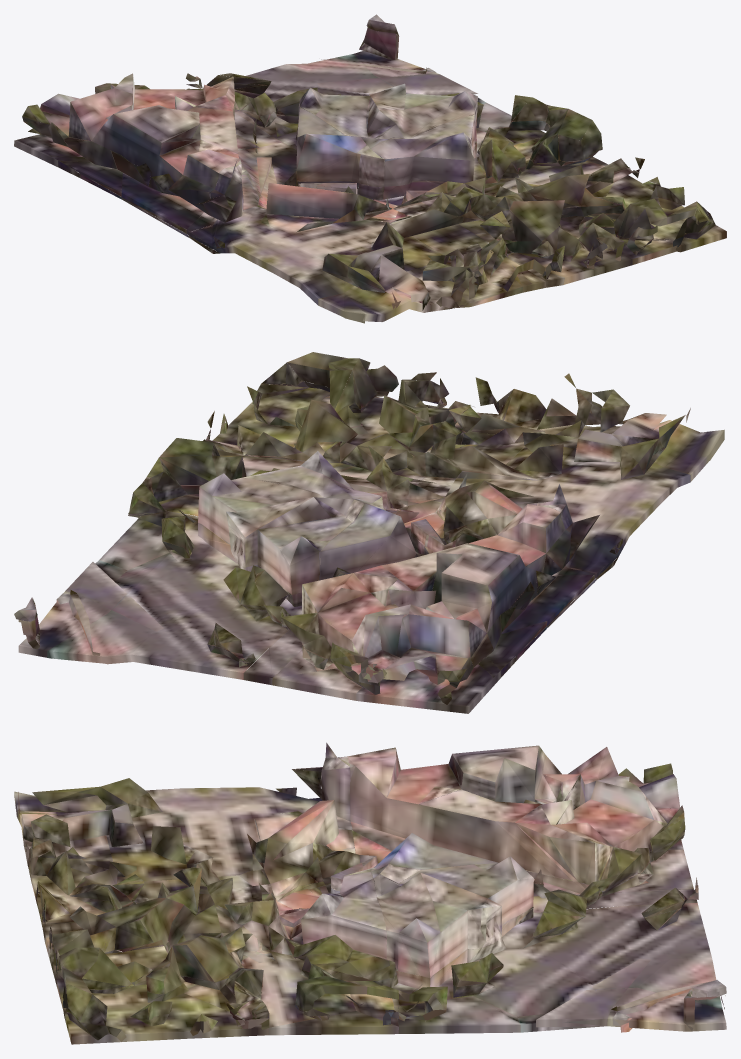
3 renders of one model, top to bottom at view 1: azimuth 30°, elevation 25°; view 2: azimuth 150°, elevation 25°; view 3: azimuth 270°, elevation 25°, orthographic. The views are drawn at different scales.
Parts seen in each view (by area): view 1: Mesh_0; view 2: Mesh_0; view 3: Mesh_0.
Boxes of the visible parts, <box> form: Mesh_0: <box>14,14,726,323</box>; Mesh_0: <box>14,352,724,713</box>; Mesh_0: <box>14,742,726,1044</box>.
Bounding box in the file's own units: 266 × 58.22 × 330.
Materials: 2 (2 with a texture image).
